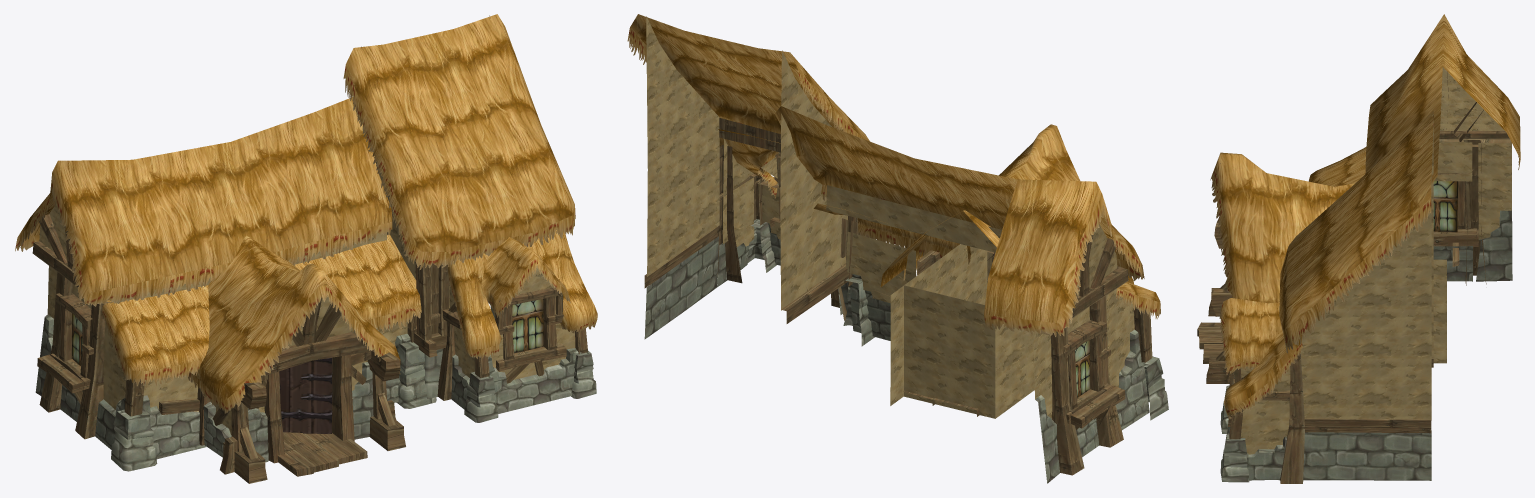
File: SM_Town004_House01.FBX
3 renders of one model, left to right at view 1: azimuth 30°, elevation 25°; view 2: azimuth 150°, elevation 25°; view 3: azimuth 270°, elevation 25°, orthographic. The views are drawn at different scales.
Parts seen in each view (by area): view 1: SM_Town004_House01; view 2: SM_Town004_House01; view 3: SM_Town004_House01.
Boxes of the visible parts, box(x1,y1,x2,y2) form: SM_Town004_House01: box(15, 14, 597, 483); SM_Town004_House01: box(627, 14, 1168, 483); SM_Town004_House01: box(1197, 14, 1520, 483).
Bounding box in the file's own units: 1830 × 1114 × 1178.
7 materials, 7 textured.
